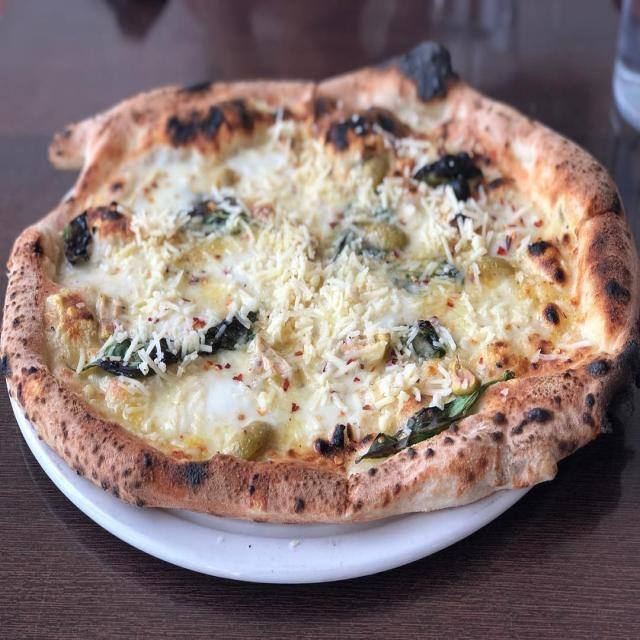basil: (356, 372, 514, 462), (82, 312, 258, 379), (333, 213, 464, 295), (185, 195, 251, 237), (62, 212, 92, 264), (408, 320, 445, 358)
pizza: (0, 49, 640, 524)
